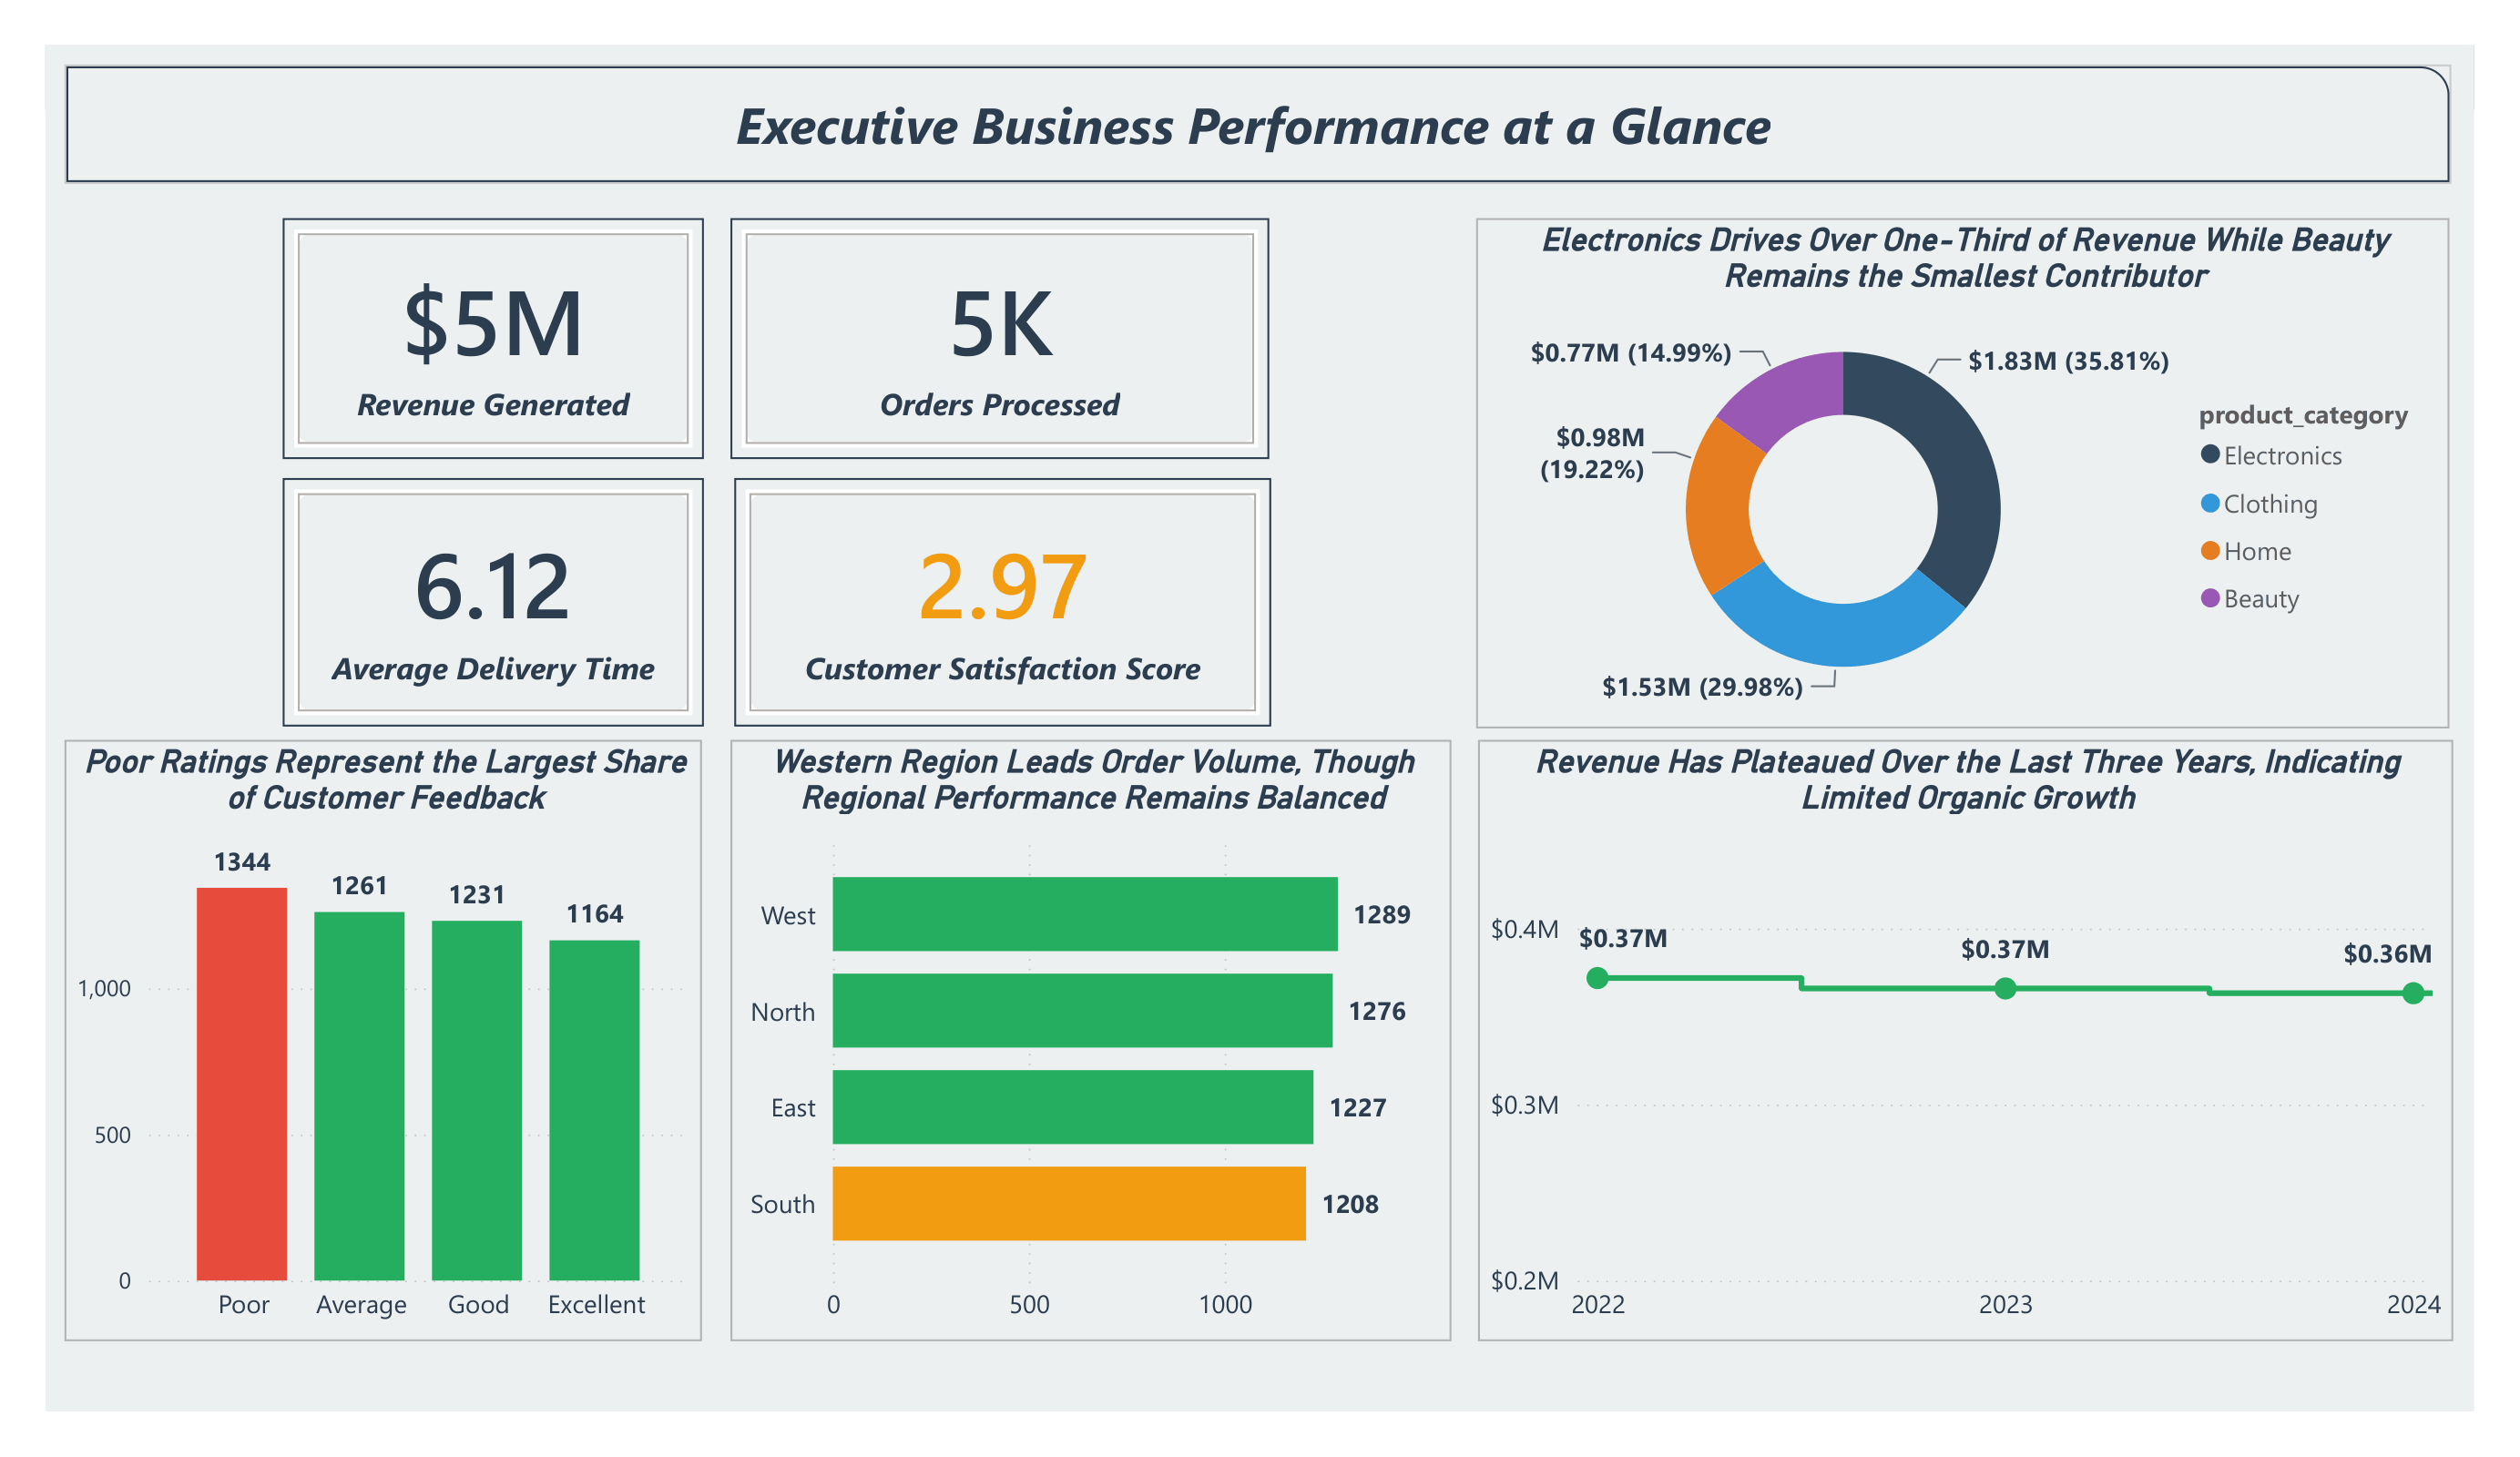

This screenshot's page, from the dashboard's own definition file:
{"tool":"powerbi","page":{"name":"Executive Overview","canvas":[1280,720],"ordinal":0},"visuals":[{"type":"cardVisual","fields":{"Data":["Basic Metrics.Total Revenue"]},"box":[124.7,90.7,222.5,127.6],"z":0},{"type":"lineChart","title":"Revenue Has Plateaued Over the Last Three Years, Indicating Limited Organic Growth","fields":{"Y":["Sum(ecommerce_sales_analytics_5000.revenue)"],"Category":["ecommerce_sales_analytics_5000.Year"]},"box":[755.4,365.7,513.1,317.5],"z":1000},{"type":"barChart","title":"Western Region Leads Order Volume, Though Regional Performance Remains Balanced","fields":{"Category":["ecommerce_sales_analytics_5000.region"],"Y":["Basic Metrics.Total Orders"]},"box":[361.4,365.7,379.8,317.5],"z":2000},{"type":"clusteredColumnChart","title":"Poor Ratings Represent the Largest Share of Customer Feedback","fields":{"Category":["ecommerce_sales_analytics_5000.Ratings Catagory"],"Y":["CountNonNull(ecommerce_sales_analytics_5000.order_id)"]},"box":[9.9,365.7,335.9,317.5],"z":3000},{"type":"donutChart","title":"Electronics Drives Over One-Third of Revenue While Beauty Remains the Smallest Contributor","fields":{"Y":["Sum(ecommerce_sales_analytics_5000.revenue)"],"Category":["ecommerce_sales_analytics_5000.product_category"]},"box":[754,90.7,513.1,269.3],"z":4000},{"type":"cardVisual","fields":{"Data":["Basic Metrics.Total Orders"]},"box":[361.4,90.7,283.5,127.6],"z":5000},{"type":"cardVisual","fields":{"Data":["Basic Metrics.Avg Customer Rating"]},"box":[362.8,228.2,283.5,130.4],"z":6000},{"type":"cardVisual","fields":{"Data":["Basic Metrics.Avg Delivery Days"]},"box":[124.7,228.2,222.5,130.4],"z":7000},{"type":"shape","box":[10.4,10.4,1257.7,62.5],"z":8000}]}

Visuals, with their boxes on the page's 1280x720 design canvas (x1, y1, x2, y2). These are canvas units, not pixel positions in the 2520x1457 screenshot, which may show the page scaled, cropped or inside an application window:
cardVisual - Basic Metrics.Total Revenue: locate(125, 91, 347, 218)
"Revenue Has Plateaued Over the Last Three Years, Indicating Limited Organic Growth" lineChart: locate(755, 366, 1268, 683)
"Western Region Leads Order Volume, Though Regional Performance Remains Balanced" barChart: locate(361, 366, 741, 683)
"Poor Ratings Represent the Largest Share of Customer Feedback" clusteredColumnChart: locate(10, 366, 346, 683)
"Electronics Drives Over One-Third of Revenue While Beauty Remains the Smallest Contributor" donutChart: locate(754, 91, 1267, 360)
cardVisual - Basic Metrics.Total Orders: locate(361, 91, 645, 218)
cardVisual - Basic Metrics.Avg Customer Rating: locate(363, 228, 646, 359)
cardVisual - Basic Metrics.Avg Delivery Days: locate(125, 228, 347, 359)
shape: locate(10, 10, 1268, 73)
